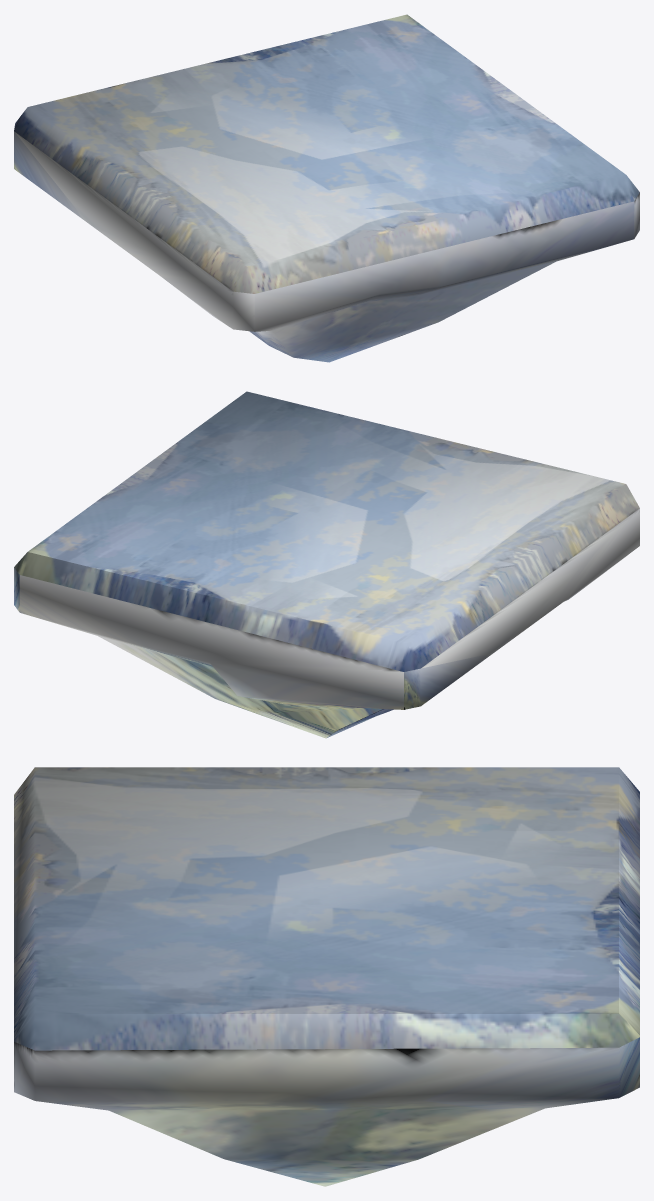
Rendered from Blue_MD_Mainsquare.fbx.
3 views of the same model, one above another, from view 1: azimuth 30°, elevation 25°; view 2: azimuth 150°, elevation 25°; view 3: azimuth 270°, elevation 25° (orthographic). The views are drawn at different scales.
Parts seen in each view (by area): view 1: Blue_MD_MainSquare; view 2: Blue_MD_MainSquare; view 3: Blue_MD_MainSquare.
Boxes of the visible parts, left/top/right/bottom form: Blue_MD_MainSquare: left=14, top=14, right=639, bottom=362; Blue_MD_MainSquare: left=14, top=391, right=639, bottom=738; Blue_MD_MainSquare: left=14, top=767, right=639, bottom=1186.
Bounding box in the file's own units: 0.98 × 0.5097 × 0.98.
